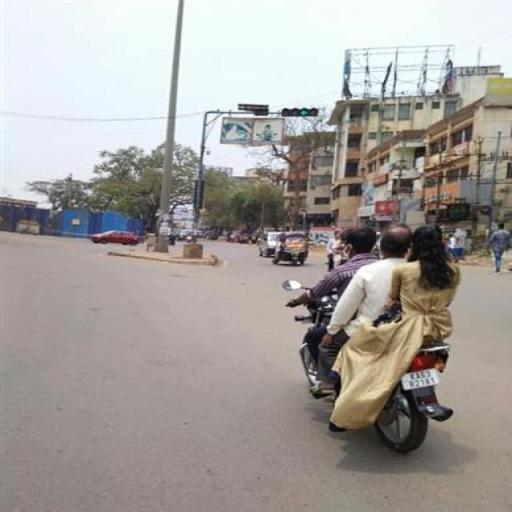tripple riding: (278, 218, 468, 356)
